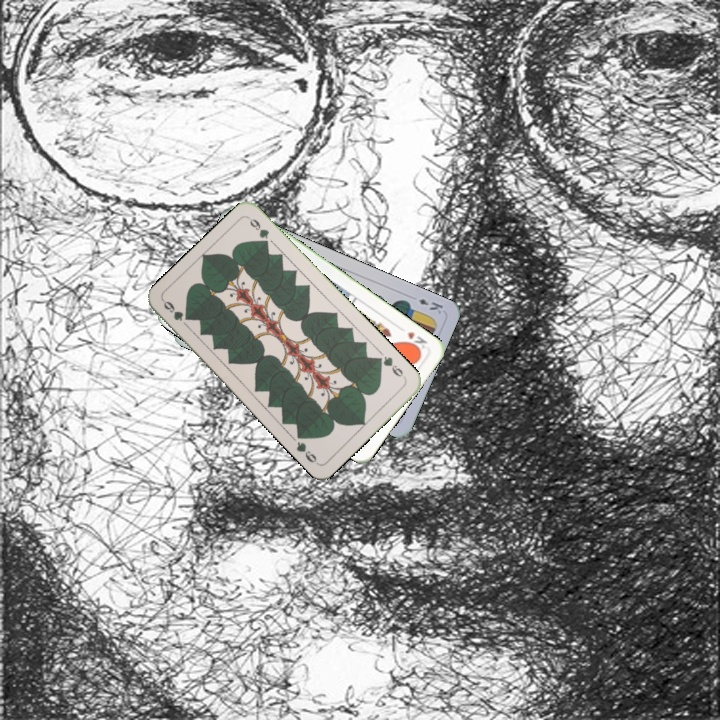EK: (414, 295, 446, 316)
G9: (373, 352, 409, 382), (159, 297, 193, 323)
HK: (402, 327, 430, 354)
